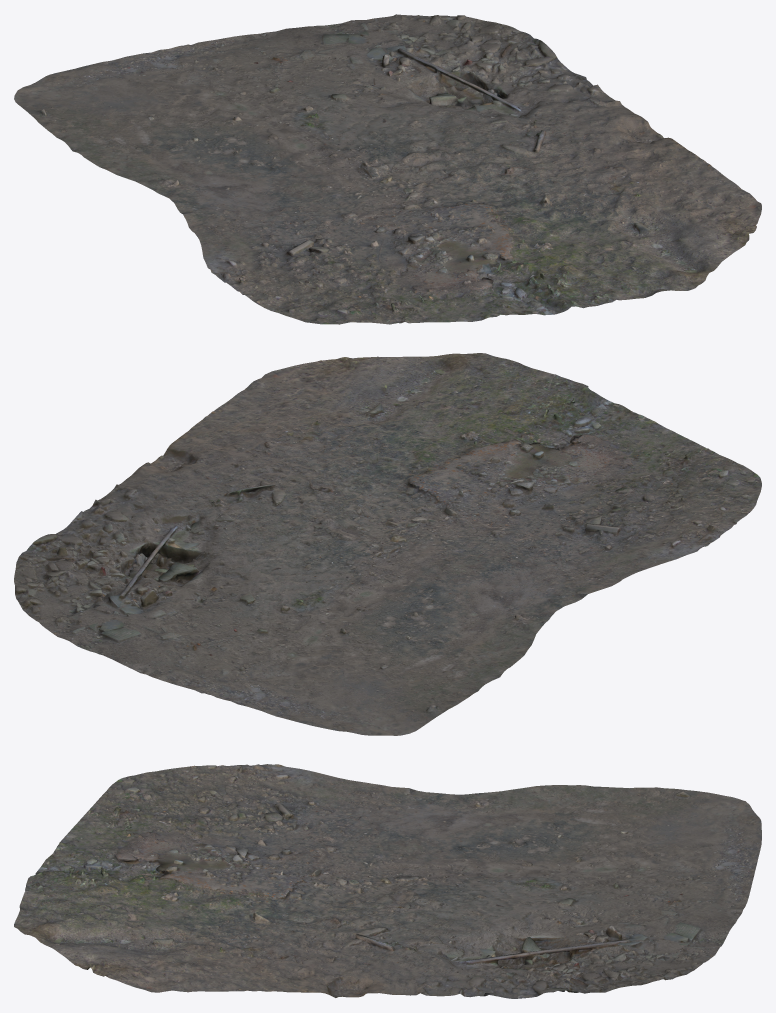
The model's file is dirt_ground.glb.
3 renders of one model, top to bottom at view 1: azimuth 30°, elevation 25°; view 2: azimuth 150°, elevation 25°; view 3: azimuth 270°, elevation 25°, orthographic. The views are drawn at different scales.
Visible parts, largest first — view 1: Object_2; view 2: Object_2; view 3: Object_2.
Part boxes in pixels (x1,y1,x2,y2): Object_2: (14,14,761,324); Object_2: (14,353,761,735); Object_2: (14,764,761,998).
Size of the model in its own units: 27.02 by 2.04 by 37.83.
Materials: 1 (1 with a texture image).
